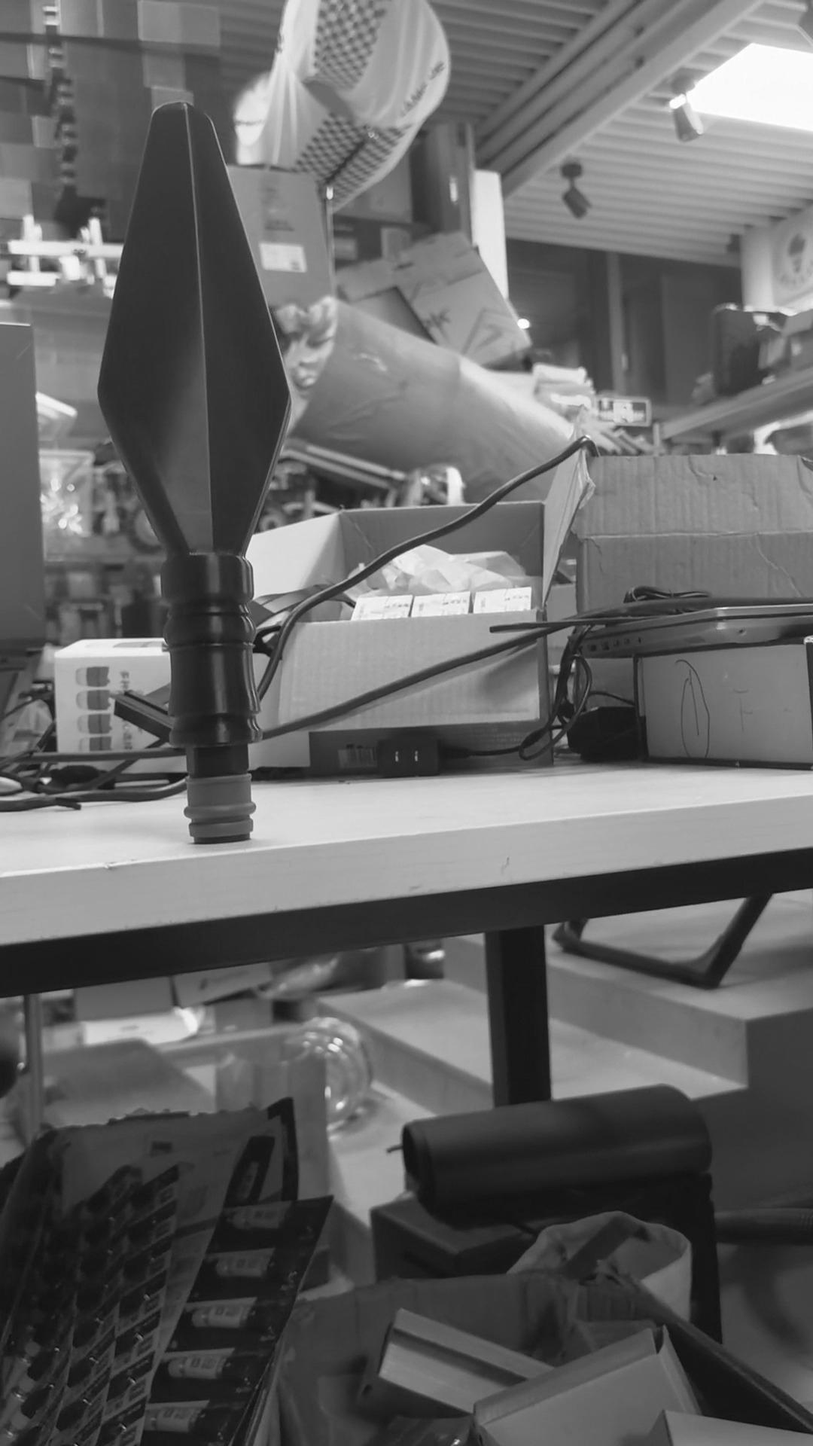base: (181, 771, 260, 842)
